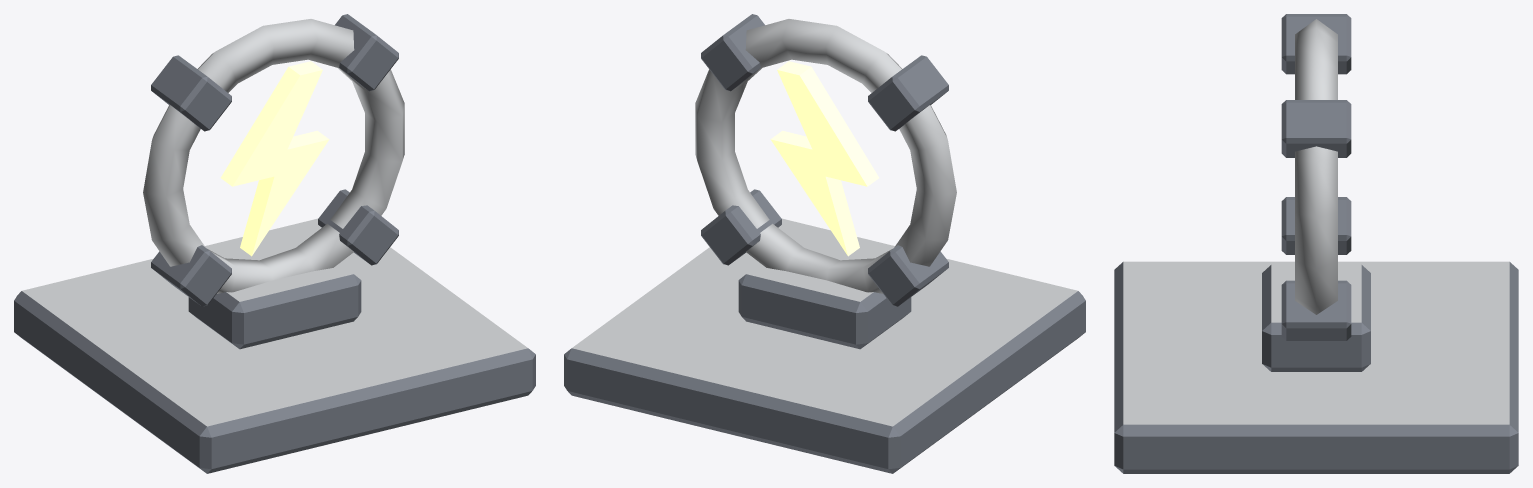
Rendered from R4X_RechargePulse_LOD1.fbx.
The picture shows the model from 3 angles, left to right: view 1: azimuth 30°, elevation 25°; view 2: azimuth 150°, elevation 25°; view 3: azimuth 270°, elevation 25°; orthographic projection. The views are drawn at different scales.
Visible parts, largest first — view 1: R4X_RechargePulse_LOD1; view 2: R4X_RechargePulse_LOD1; view 3: R4X_RechargePulse_LOD1.
Part boxes in pixels (x1=…): R4X_RechargePulse_LOD1: x1=14, y1=14, x2=535, y2=473; R4X_RechargePulse_LOD1: x1=564, y1=14, x2=1085, y2=473; R4X_RechargePulse_LOD1: x1=1114, y1=14, x2=1518, y2=473.
Size of the model in its own units: 0.52 by 0.5081 by 0.52.
